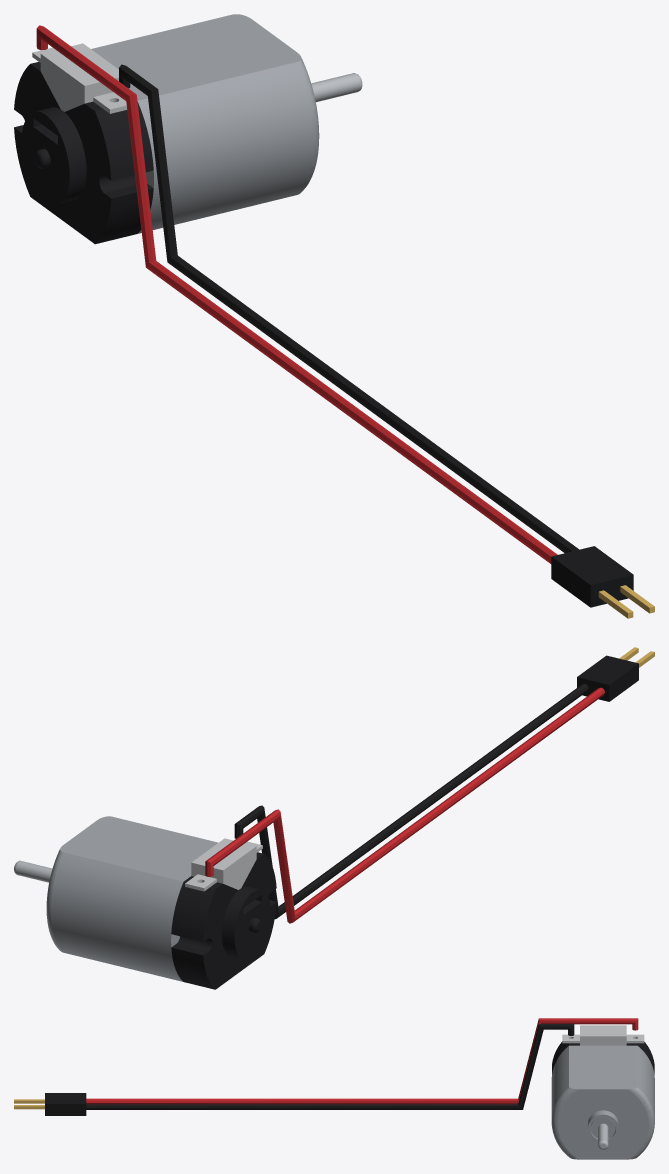
Rendered from dc-motor.glb.
3 views of the same model, one above another, from view 1: azimuth 30°, elevation 25°; view 2: azimuth 150°, elevation 25°; view 3: azimuth 270°, elevation 25° (orthographic). The views are drawn at different scales.
Visible parts, largest first — view 1: body, cable, connector, terminals, rotor-mesh; view 2: body, cable, terminals, connector, rotor-mesh; view 3: body, cable, terminals, connector, rotor-mesh.
Boxes of the visible parts, left/top/right/bottom form: body: left=14, top=14, right=319, bottom=244; cable: left=36, top=25, right=578, bottom=563; connector: left=551, top=546, right=654, bottom=618; terminals: left=32, top=43, right=127, bottom=113; rotor-mesh: left=311, top=73, right=362, bottom=102; body: left=46, top=816, right=276, bottom=989; cable: left=205, top=683, right=604, bottom=923; terminals: left=185, top=838, right=262, bottom=891; connector: left=577, top=647, right=654, bottom=701; rotor-mesh: left=14, top=860, right=52, bottom=882; body: left=551, top=1041, right=654, bottom=1159; cable: left=86, top=1018, right=638, bottom=1109; terminals: left=562, top=1025, right=644, bottom=1045; connector: left=14, top=1093, right=86, bottom=1115; rotor-mesh: left=598, top=1123, right=608, bottom=1149.
Bounding box in the file's own units: 38 × 19 × 124.
